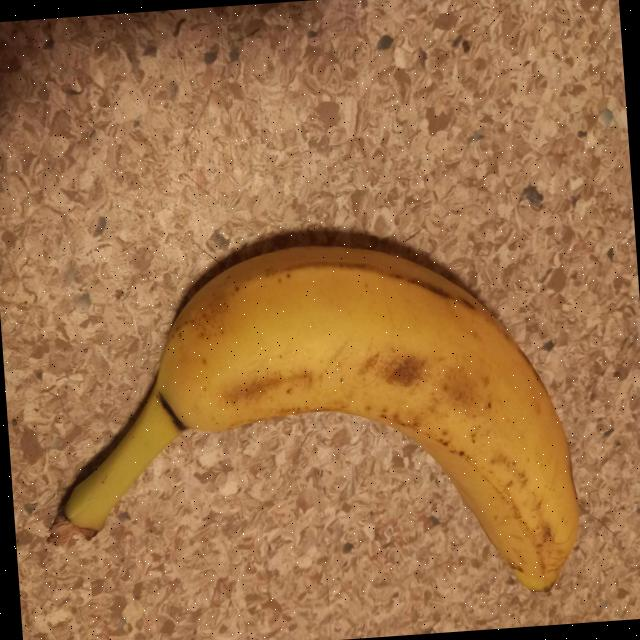banana: (63, 246, 577, 591)
